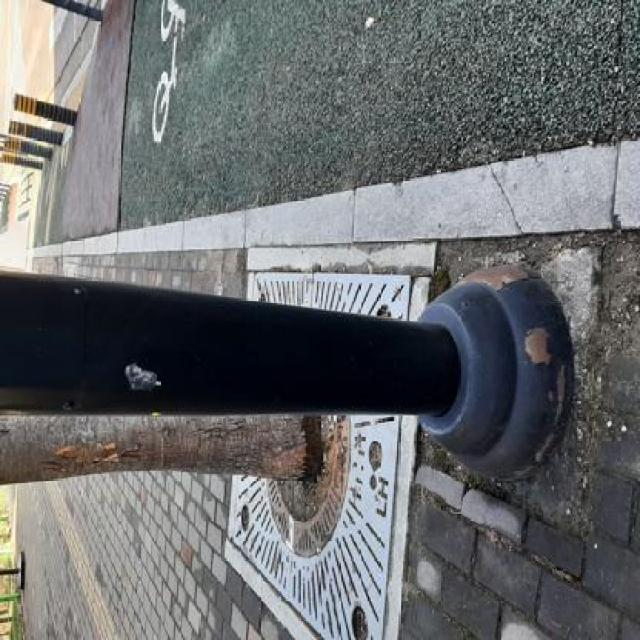pole: (0, 254, 574, 481)
